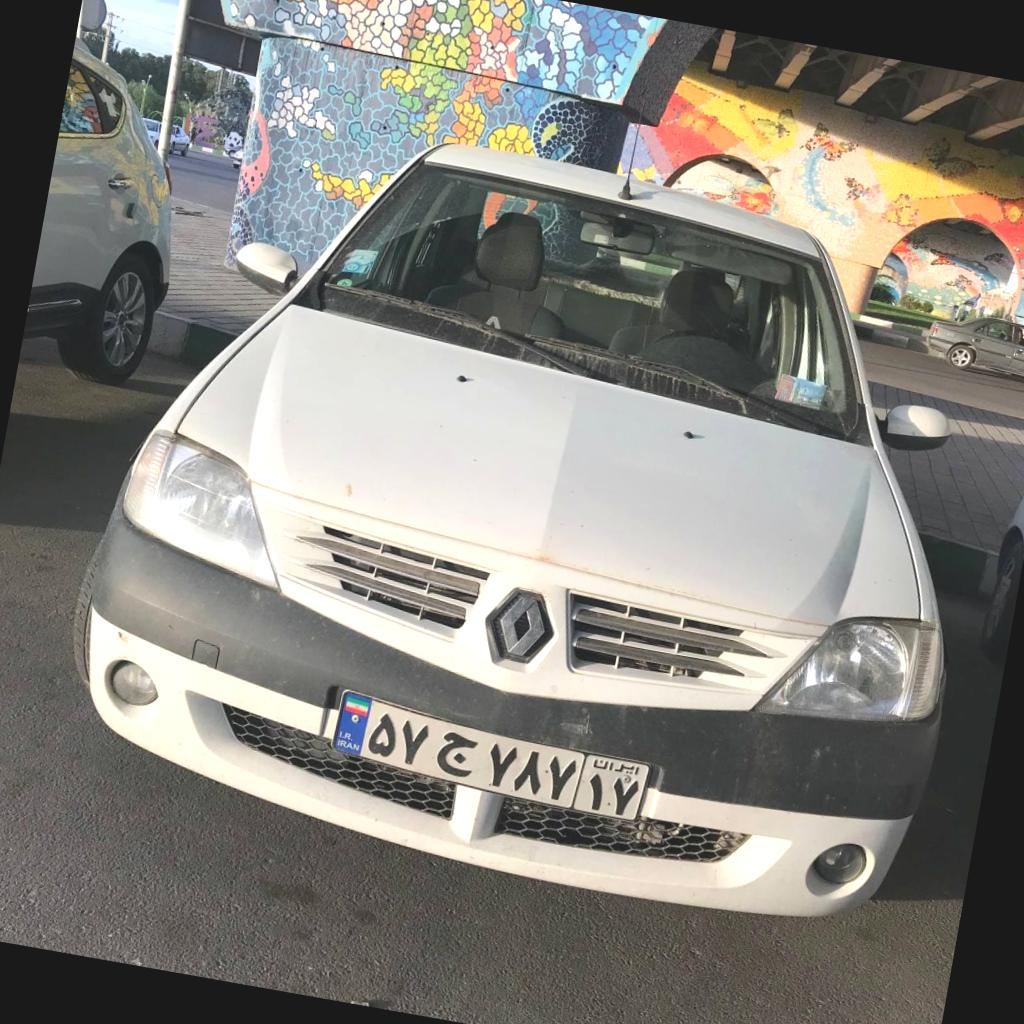Plates: (329, 690, 650, 822)
